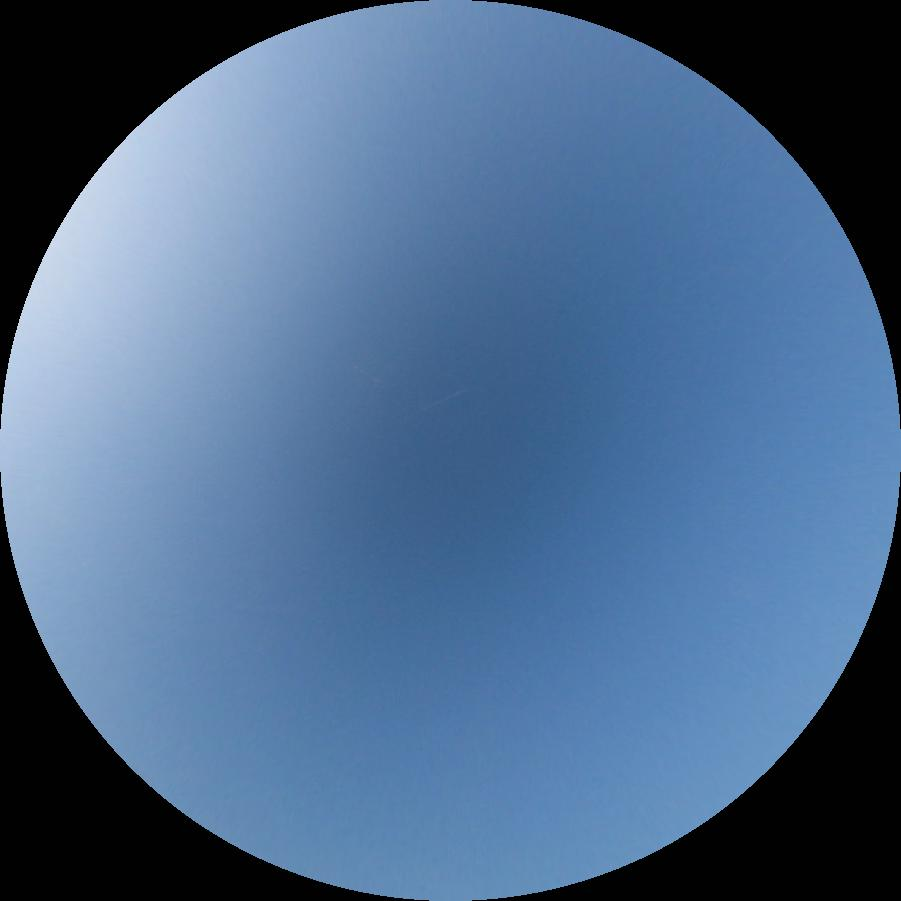contrail young: (399, 389, 468, 419)
